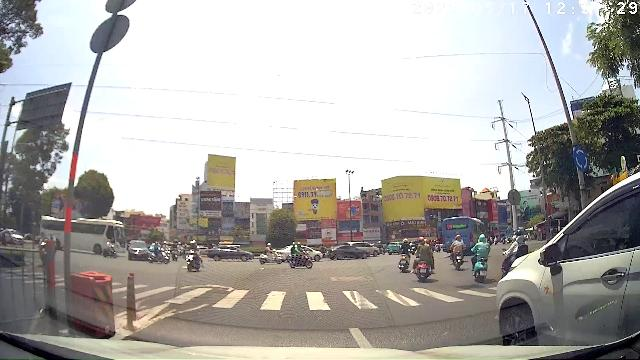303-noi-giao-nhau-chay-theo-vong-xuyen: (573, 146, 589, 171)
